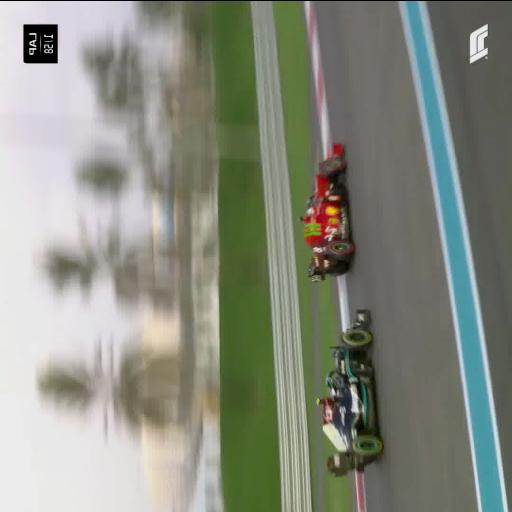f1_car: (317, 308, 383, 476), (299, 143, 354, 281)
